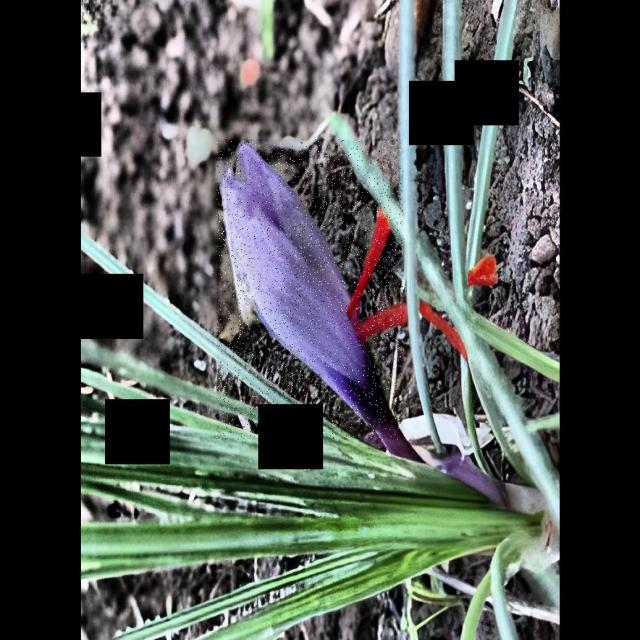Flower: (218, 140, 396, 434)
stigma: (354, 301, 471, 363), (345, 204, 394, 326), (465, 253, 501, 288)
